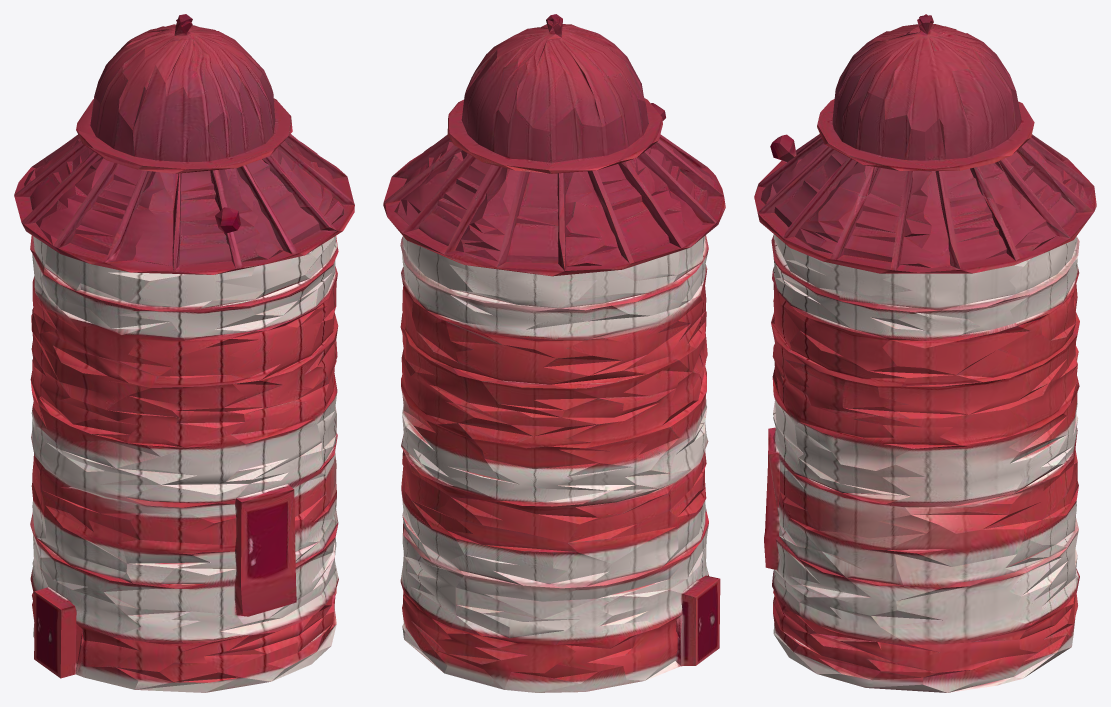
File: silo.glb
The picture shows the model from 3 angles, left to right: view 1: azimuth 30°, elevation 25°; view 2: azimuth 150°, elevation 25°; view 3: azimuth 270°, elevation 25°; orthographic projection.
Visible parts, largest first — view 1: output_unwrapped; view 2: output_unwrapped; view 3: output_unwrapped.
Part boxes in pixels (x1,y1,x2,y2): output_unwrapped: (14, 14, 354, 692); output_unwrapped: (383, 14, 725, 692); output_unwrapped: (754, 14, 1096, 692).
Size of the model in its own units: 0.9564 by 1.9 by 0.9589.
1 material, 1 textured.
